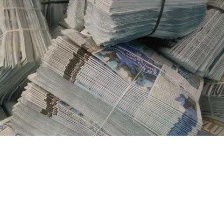book: (6, 25, 207, 136), (58, 0, 213, 45), (0, 0, 57, 111), (154, 0, 224, 86), (186, 107, 224, 136), (196, 76, 223, 116)
